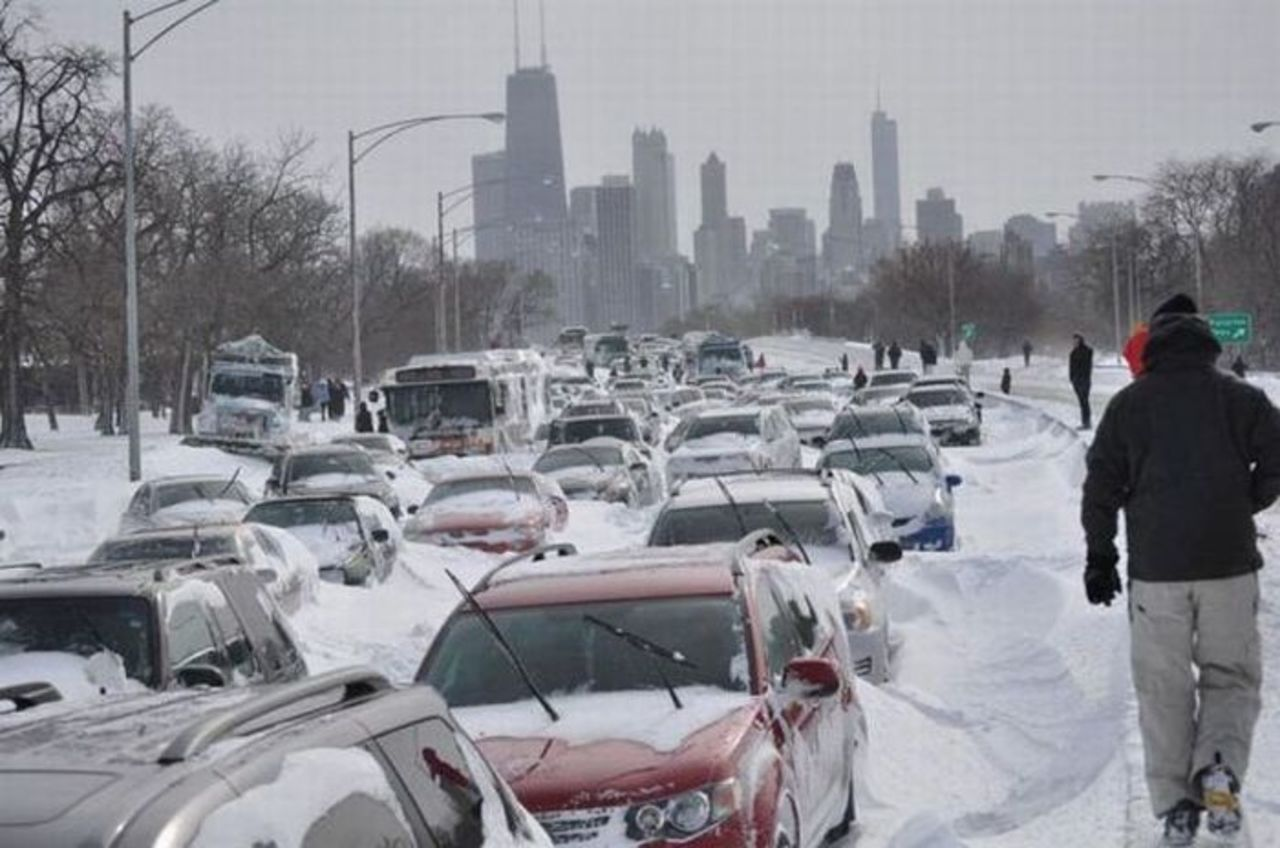bus: (377, 348, 551, 468)
car: (376, 532, 878, 847), (192, 596, 802, 846), (0, 553, 315, 715), (643, 467, 883, 564), (813, 409, 958, 556), (238, 493, 397, 586), (404, 468, 570, 553), (421, 468, 572, 545), (204, 336, 299, 458), (666, 405, 805, 478), (273, 444, 408, 517), (530, 443, 643, 503), (898, 381, 983, 446)
person: (1084, 302, 1279, 831), (1067, 332, 1096, 429), (354, 402, 372, 436), (317, 377, 328, 421), (872, 339, 885, 373), (997, 366, 1011, 397), (888, 340, 901, 371), (836, 351, 849, 374)
truck: (682, 338, 749, 385)
